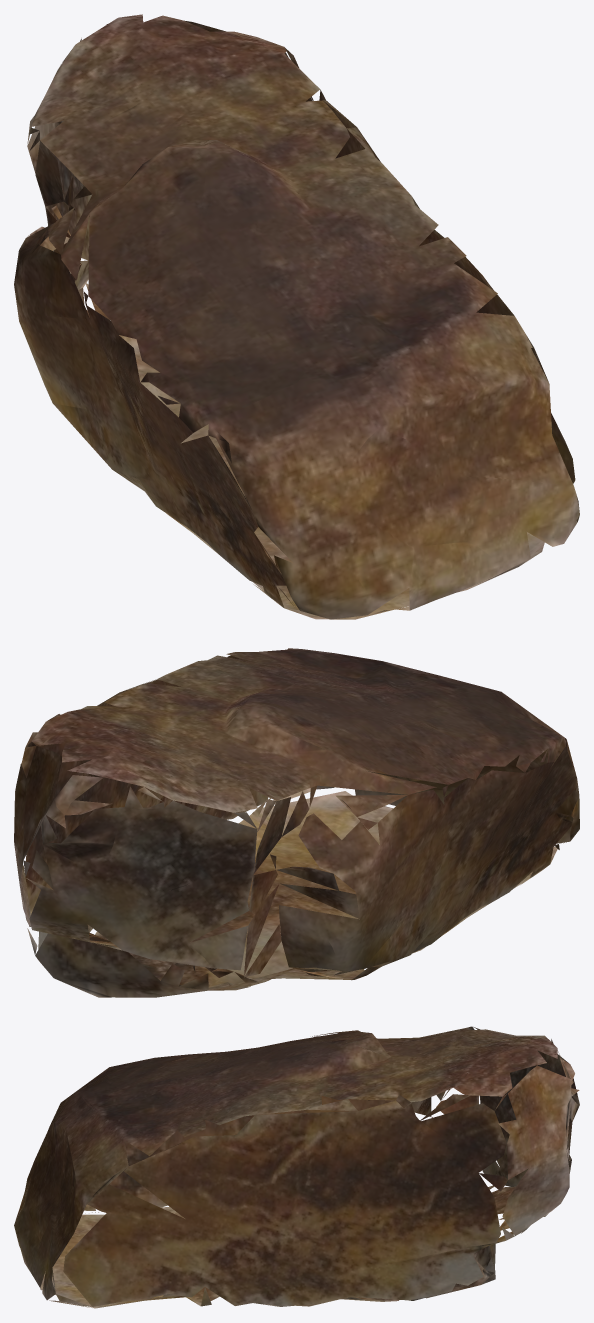
Rendered from rock_07_hi.glb.
The picture shows the model from 3 angles, top to bottom: view 1: azimuth 30°, elevation 25°; view 2: azimuth 150°, elevation 25°; view 3: azimuth 270°, elevation 25°; orthographic projection. The views are drawn at different scales.
Visible parts, largest first — view 1: rock_07_hi; view 2: rock_07_hi; view 3: rock_07_hi.
Part boxes in pixels (x1,y1,x2,y2): rock_07_hi: (14,14,579,619); rock_07_hi: (14,648,579,997); rock_07_hi: (14,1026,579,1308).
Size of the model in its own units: 0.1678 by 0.1425 by 0.3197.
Materials: 1 (1 with a texture image).
